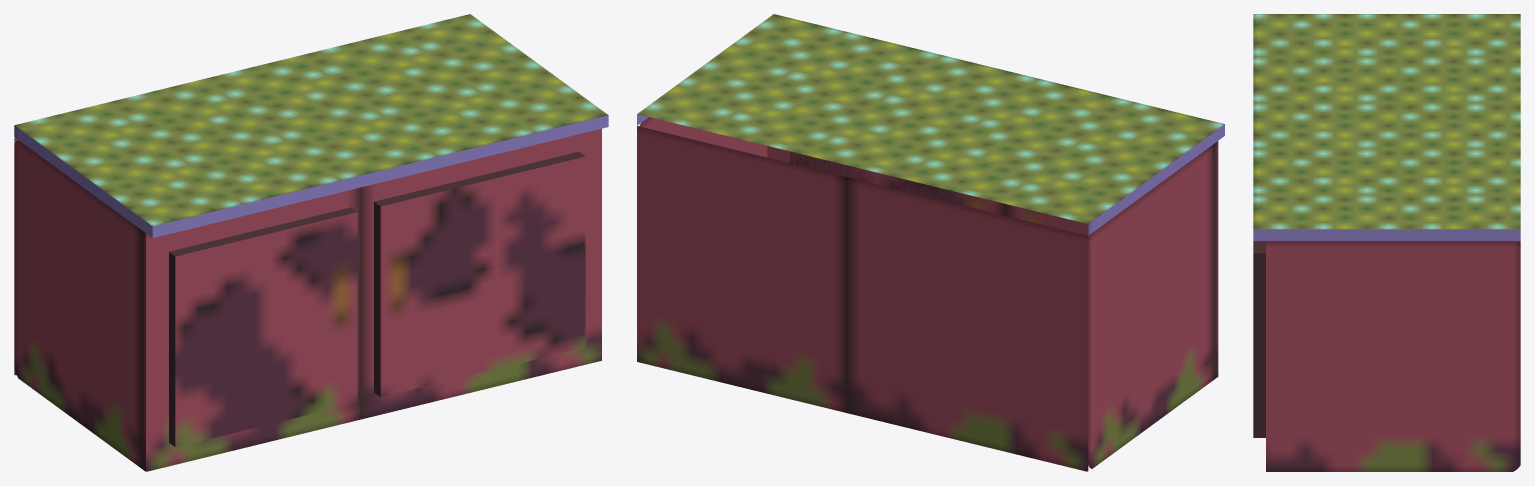
Rendered from Furniture_Desk_TipoA.fbx.
3 renders of one model, left to right at view 1: azimuth 30°, elevation 25°; view 2: azimuth 150°, elevation 25°; view 3: azimuth 270°, elevation 25°, orthographic. The views are drawn at different scales.
Parts seen in each view (by area): view 1: Cube.065, Cube.022, Cube.064; view 2: Cube.065, Cube.022, Cube.064; view 3: Cube.065, Cube.022.
Part boxes in pixels (x1,y1,x2,y2): Cube.065: (14, 14, 608, 471); Cube.022: (374, 151, 585, 397); Cube.064: (169, 207, 357, 447); Cube.065: (637, 14, 1224, 471); Cube.022: (790, 151, 992, 212); Cube.064: (1015, 206, 1091, 241); Cube.065: (1253, 14, 1520, 471); Cube.022: (1253, 241, 1265, 437).
Bounding box in the file's own units: 200 × 105 × 105.
